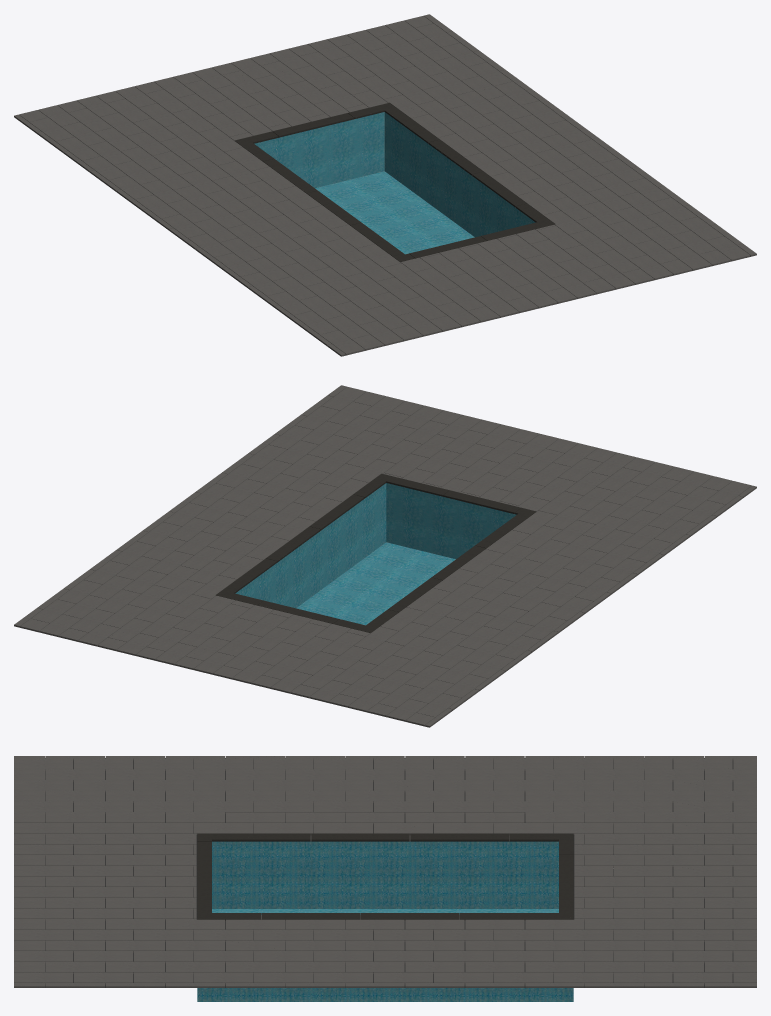
File: outdoor-pool.glb
3 renders of one model, top to bottom at view 1: azimuth 30°, elevation 25°; view 2: azimuth 150°, elevation 25°; view 3: azimuth 270°, elevation 25°, orthographic. The views are drawn at different scales.
Parts seen in each view (by area): view 1: floor 0 -3, floor 0 -4, floor -1 -4, floor -2 -1, floor -2 -2, floor -2 -3, floor -2 -4, floor -1 -1, floor 0 -1, floor 1 -1, floor 1 -4, floor 1 -2 (+24 smaller); view 2: floor 0 -4, floor -1 -4, floor 0 -3, floor -2 -3, floor -2 -1, floor -2 -2, floor -2 -4, floor -1 -1, floor 0 -1, floor -1 -2, floor 1 -3, floor 1 -4 (+22 smaller); view 3: rest -1 -2, rest -1 -3, floor -1 -4, floor 0 -4, floor -2 -2, floor -2 -3, floor -2 -1, floor -2 -4, floor -1 -1, floor 0 -1, floor 1 -3, floor 1 -2 (+27 smaller).
Part boxes in pixels (left/top/right/bottom): floor 0 -3: left=315, top=100, right=495, bottom=250; floor 0 -4: left=254, top=43, right=435, bottom=135; floor -1 -4: left=139, top=71, right=345, bottom=165; floor -2 -1: left=224, top=248, right=396, bottom=334; floor -2 -2: left=169, top=196, right=335, bottom=284; floor -2 -3: left=91, top=152, right=264, bottom=237; floor -2 -4: left=37, top=99, right=203, bottom=187; floor -1 -1: left=342, top=226, right=512, bottom=305; floor 0 -1: left=478, top=192, right=627, bottom=277; floor 1 -1: left=573, top=167, right=716, bottom=249; floor 1 -4: left=370, top=24, right=524, bottom=108; floor 1 -2: left=502, top=120, right=656, bottom=205; floor 0 -4: left=109, top=575, right=335, bottom=656; floor -1 -4: left=224, top=605, right=429, bottom=684; floor 0 -3: left=188, top=526, right=386, bottom=625; floor -2 -3: left=419, top=583, right=592, bottom=669; floor -2 -1: left=551, top=486, right=724, bottom=572; floor -2 -2: left=472, top=539, right=657, bottom=615; floor -2 -4: left=340, top=636, right=525, bottom=712; floor -1 -1: left=443, top=458, right=614, bottom=547; floor 0 -1: left=320, top=429, right=499, bottom=497; floor -1 -2: left=375, top=514, right=561, bottom=617; floor 1 -3: left=91, top=507, right=251, bottom=584; floor 1 -4: left=32, top=552, right=198, bottom=627; rest -1 -2: left=212, top=822, right=557, bottom=908; rest -1 -3: left=213, top=822, right=558, bottom=908; floor -1 -4: left=525, top=768, right=733, bottom=961; floor 0 -4: left=526, top=835, right=733, bottom=978; floor -2 -2: left=45, top=756, right=733, bottom=833; floor -2 -3: left=253, top=756, right=733, bottom=833; floor -2 -1: left=74, top=756, right=283, bottom=811; floor -2 -4: left=525, top=756, right=731, bottom=811; floor -1 -1: left=76, top=812, right=305, bottom=881; floor 0 -1: left=45, top=835, right=283, bottom=971; floor 1 -3: left=45, top=925, right=733, bottom=987; floor 1 -2: left=73, top=921, right=525, bottom=986.
Size of what is drawn, in the model's own units: 11 by 1.84 by 15.
4 materials, 3 textured.
